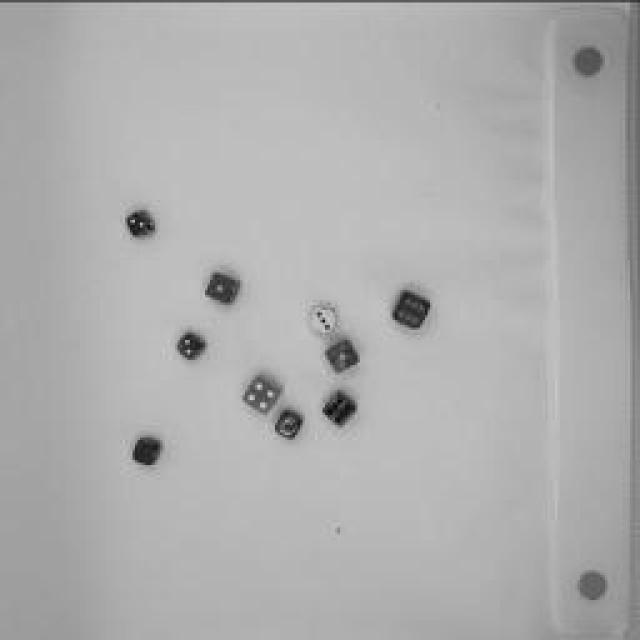dice_1: (322, 337, 362, 375), (205, 269, 245, 306), (274, 406, 306, 444)
dice_2: (175, 329, 210, 361), (125, 208, 157, 240)
dice_3: (309, 303, 341, 335)
dice_4: (241, 371, 289, 414), (130, 432, 165, 466)
dice_6: (389, 286, 436, 332), (320, 388, 360, 428)
